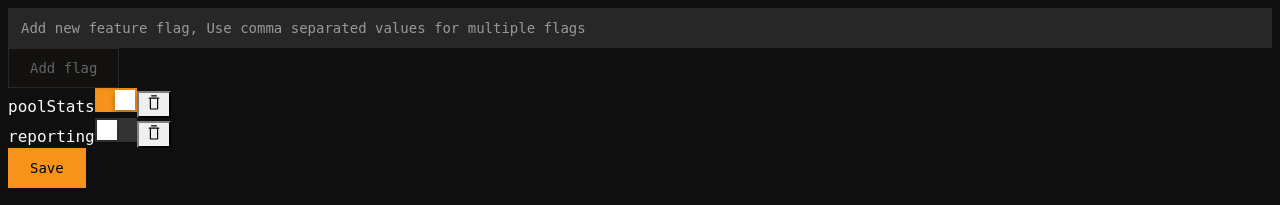
Test: FeatureFlagsSettings › deletes a flag
Click the button named "Delete" at (154, 104), box [137, 91, 171, 118]
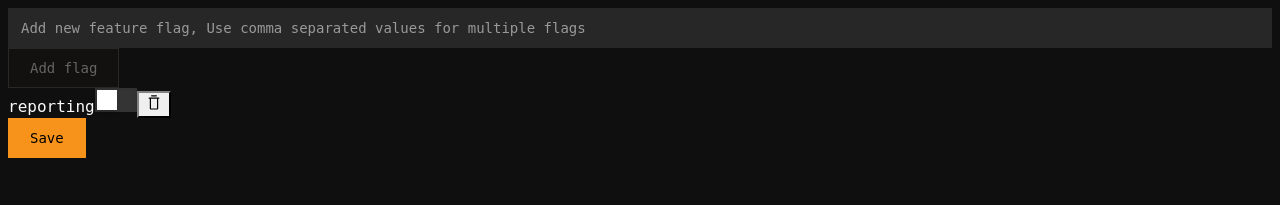
Expected: the text "poolStats" is gone
